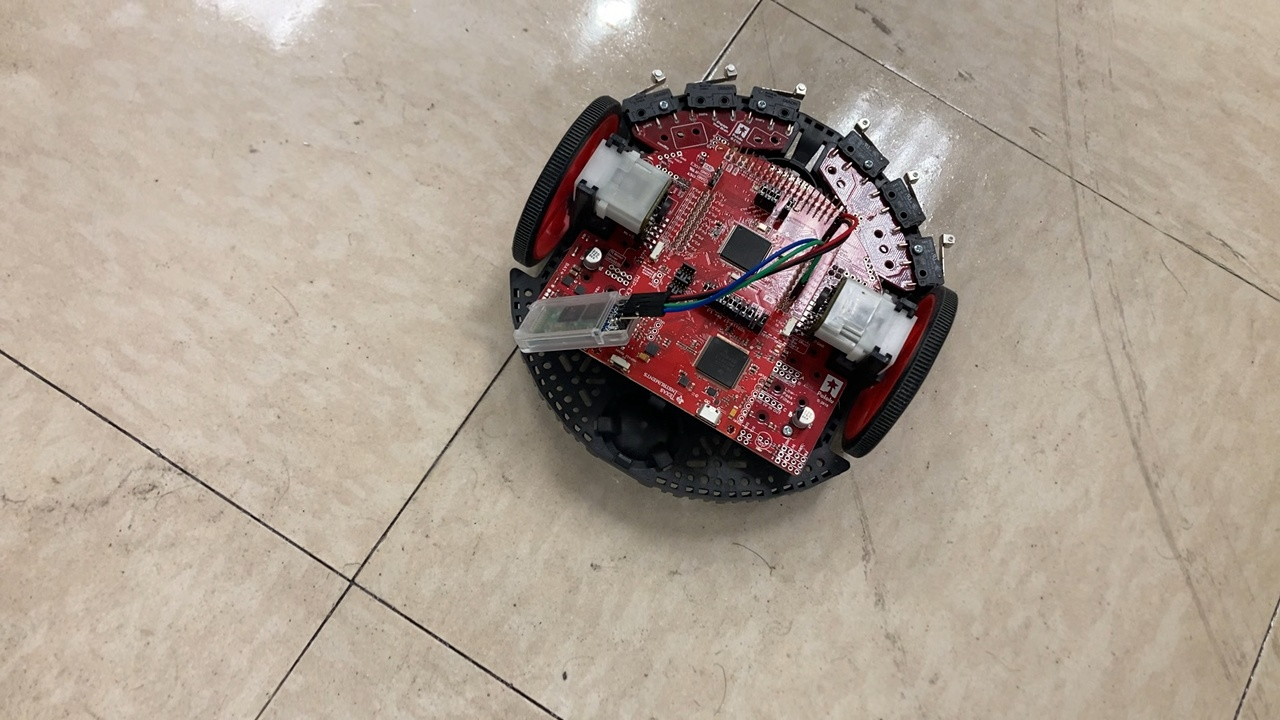robot: (497, 63, 966, 506)
